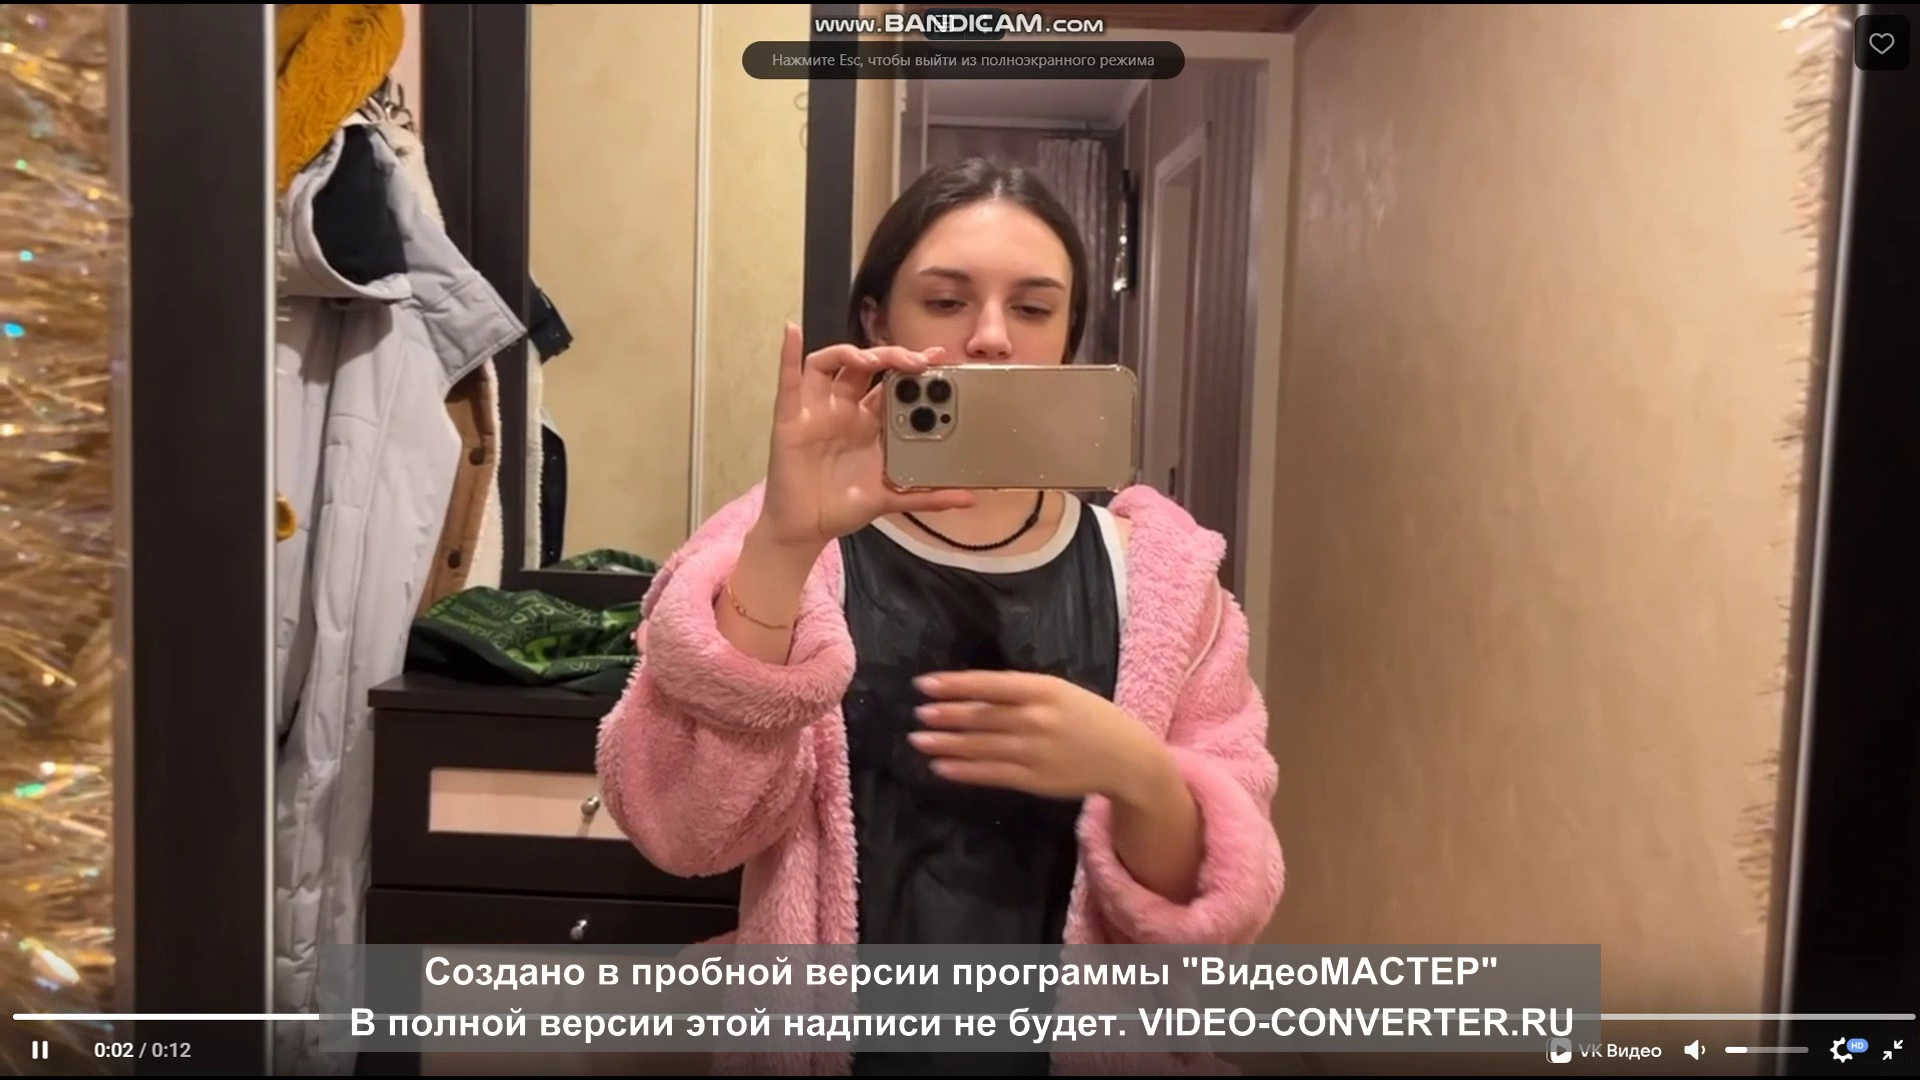Кисть: (898, 667, 1121, 796)
